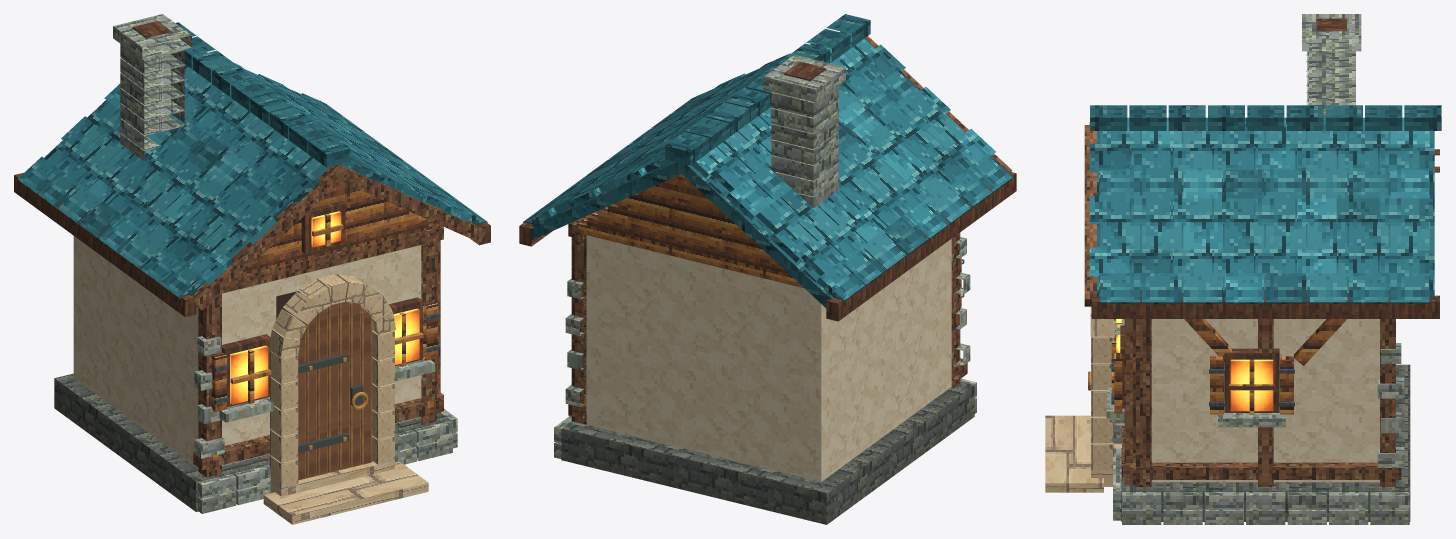
The picture shows the model from 3 angles, left to right: view 1: azimuth 30°, elevation 25°; view 2: azimuth 150°, elevation 25°; view 3: azimuth 270°, elevation 25°; orthographic projection. The views are drawn at different scales.
Visible parts, largest first — view 1: teal_geometry, plaster_geometry, wood_geometry, teal_dark_geometry, stone_light_geometry, stone_dark_geometry, oak_geometry, teal_light_geometry, wood_dark_geometry, stone_geometry, Walkable entry tread 0, window_warm_geometry (+24 smaller); view 2: plaster_geometry, teal_geometry, stone_dark_geometry, teal_dark_geometry, oak_geometry, stone_light_geometry, teal_light_geometry, wood_geometry, wood_dark_geometry, stone_geometry; view 3: teal_geometry, plaster_geometry, teal_dark_geometry, wood_geometry, stone_light_geometry, teal_light_geometry, wood_dark_geometry, stone_geometry, stone_dark_geometry, Walkable entry tread 0, oak_geometry, window_warm_geometry (+6 smaller).
Boxes of the visible parts, x1,y1,x2,y2 form: teal_geometry: (18, 52, 487, 298); plaster_geometry: (73, 236, 421, 468); wood_geometry: (192, 164, 486, 477); teal_dark_geometry: (43, 22, 478, 295); stone_light_geometry: (113, 14, 457, 505); stone_dark_geometry: (54, 56, 450, 511); oak_geometry: (211, 181, 438, 411); teal_light_geometry: (88, 52, 471, 284); wood_dark_geometry: (14, 21, 490, 407); stone_geometry: (120, 44, 457, 513); Walkable entry tread 0: (263, 462, 428, 524); window_warm_geometry: (230, 211, 419, 404); plaster_geometry: (581, 235, 951, 481); teal_geometry: (523, 32, 1013, 301); stone_dark_geometry: (561, 382, 974, 524); teal_dark_geometry: (531, 14, 986, 307); oak_geometry: (577, 174, 961, 307); stone_light_geometry: (554, 54, 976, 443); teal_light_geometry: (596, 46, 995, 242); wood_geometry: (568, 36, 1012, 424); wood_dark_geometry: (519, 62, 1016, 321); stone_geometry: (554, 86, 976, 458); teal_geometry: (1089, 117, 1429, 303); plaster_geometry: (1151, 319, 1379, 482); teal_dark_geometry: (1089, 105, 1441, 303); wood_geometry: (1084, 125, 1401, 486); stone_light_geometry: (1106, 14, 1409, 524); teal_light_geometry: (1089, 117, 1429, 303); wood_dark_geometry: (1091, 18, 1439, 412); stone_geometry: (1113, 51, 1409, 524); stone_dark_geometry: (1121, 54, 1410, 521); Walkable entry tread 0: (1045, 415, 1103, 492); oak_geometry: (1114, 319, 1346, 414); window_warm_geometry: (1116, 319, 1273, 411).
Size of the model in its own units: 3.42 by 4.16 by 3.73.
Materials: 17 (16 with a texture image).
